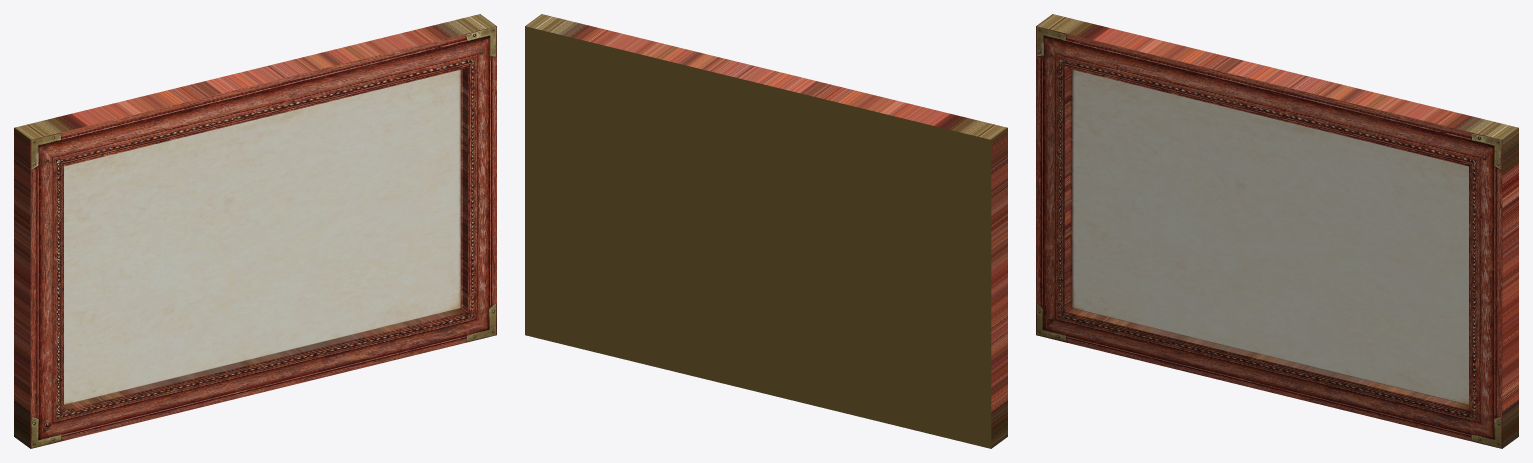
Rendered from panel_card.glb.
3 renders of one model, left to right at view 1: azimuth 30°, elevation 25°; view 2: azimuth 150°, elevation 25°; view 3: azimuth 330°, elevation 25°, orthographic.
Parts seen in each view (by area): view 1: panel_card; view 2: panel_card; view 3: panel_card.
Boxes of the visible parts, x1,y1,x2,y2 form: panel_card: (14, 14, 496, 448); panel_card: (525, 14, 1007, 448); panel_card: (1036, 14, 1518, 448).
Bounding box in the file's own units: 0.6 × 0.38 × 0.042.
1 material, 1 textured.
